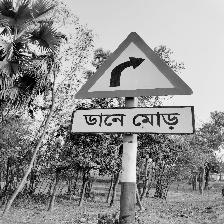Right-turn: (73, 32, 196, 135)
